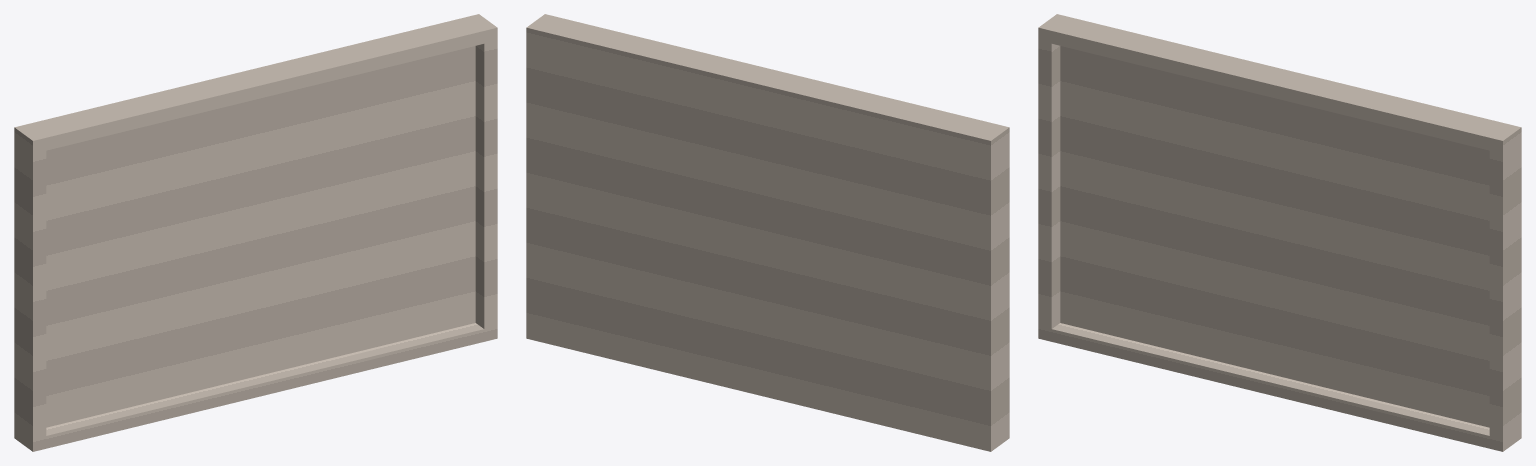
The model's file is Props_Woodboard.fbx.
The picture shows the model from 3 angles, left to right: view 1: azimuth 30°, elevation 25°; view 2: azimuth 150°, elevation 25°; view 3: azimuth 330°, elevation 25°; orthographic projection.
Parts seen in each view (by area): view 1: pCube143; view 2: pCube143; view 3: pCube143.
Part boxes in pixels (x1=…): pCube143: x1=14, y1=14, x2=497, y2=451; pCube143: x1=526, y1=14, x2=1009, y2=451; pCube143: x1=1038, y1=14, x2=1521, y2=451.
Size of the model in its own units: 2.66 by 1.7 by 0.1852.
